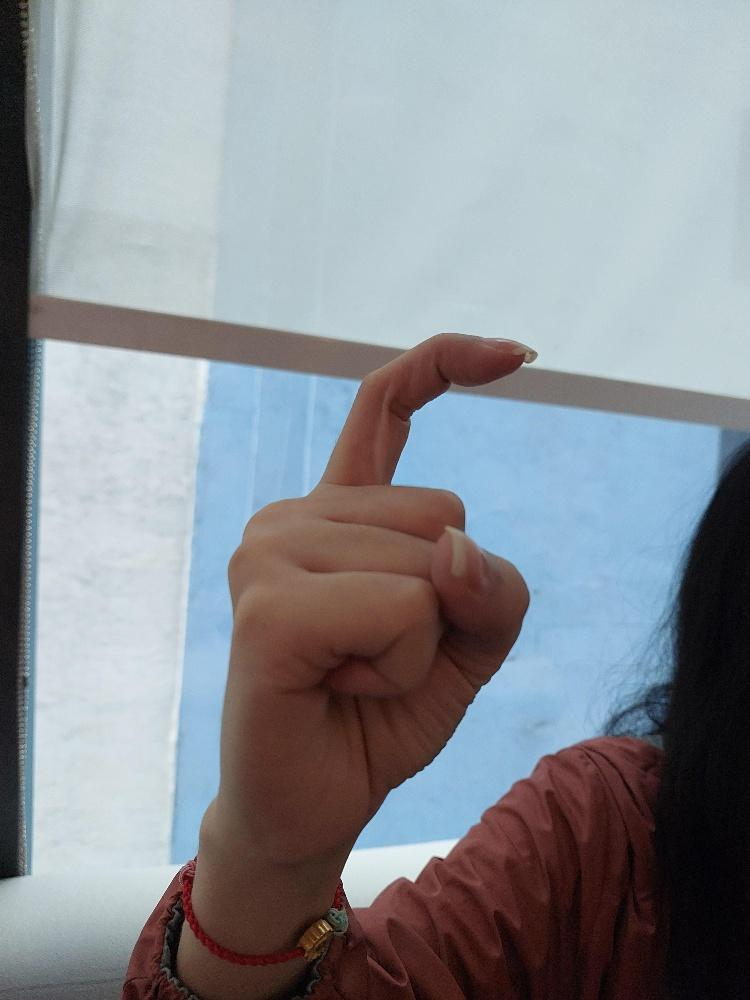x: (216, 326, 536, 864)
